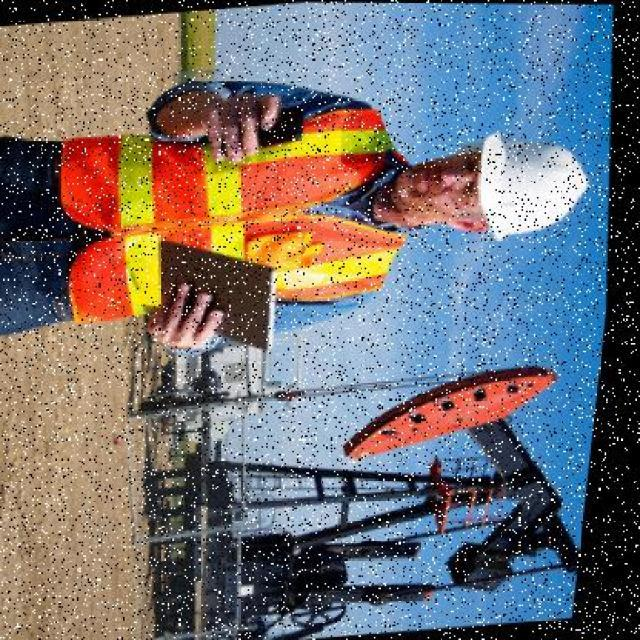helmet: (451, 120, 607, 246)
vest: (55, 85, 433, 341)
